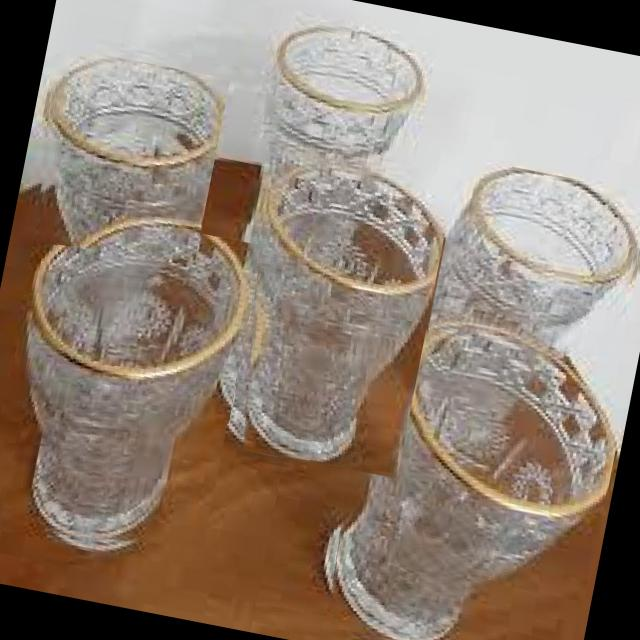Glass: (312, 305, 634, 640), (0, 204, 264, 570), (210, 148, 454, 480), (18, 46, 230, 273), (428, 157, 640, 368), (256, 15, 434, 180)
